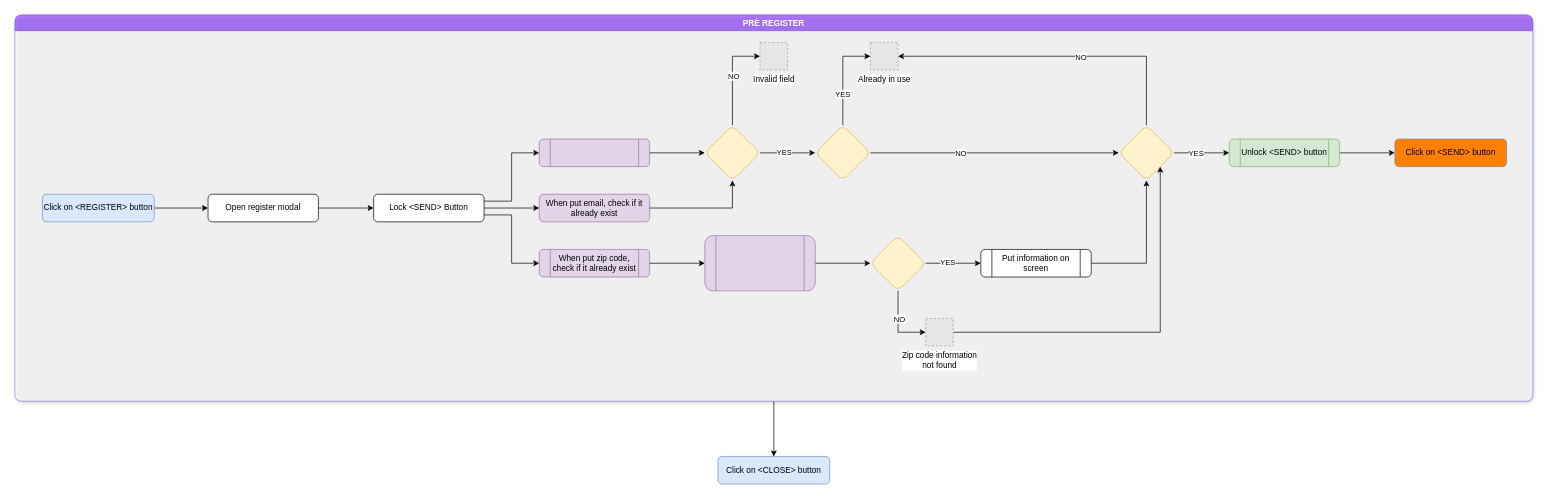
The diagram is 1549 pixels wide and 496 high, and some of its shapes have lost their labels. Grey dashed boxes stand in for pictures. The shapes that lost their labels are listed below. From the top down, each one's centre as x and y in pixels, then its label:
At (x=594, y=152): "When put username, check if it already exist".
At (x=732, y=152): "Is valid?".
At (x=842, y=152): "Exist?".
At (x=1146, y=152): "All fields are valid?".
At (x=759, y=263): "Consume an API that can find information about the zip code".
At (x=898, y=263): "Found address information?".
